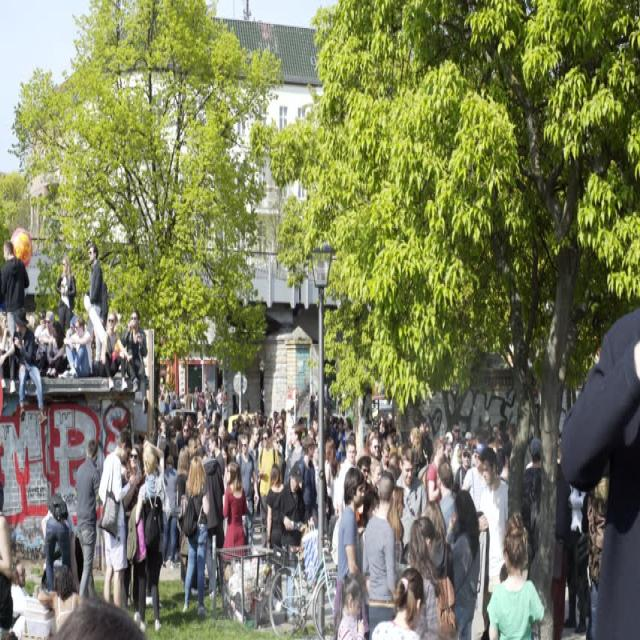body: (558, 301, 640, 639), (359, 416, 540, 489), (41, 533, 146, 639), (226, 388, 358, 467), (485, 505, 549, 639), (96, 428, 137, 613), (130, 437, 165, 632), (360, 469, 399, 640), (474, 446, 508, 640), (444, 488, 481, 640), (156, 388, 226, 465), (181, 453, 211, 618), (420, 500, 454, 640), (120, 444, 146, 627), (11, 304, 50, 425), (74, 436, 102, 601), (278, 464, 307, 616), (195, 448, 224, 599), (406, 516, 441, 640), (369, 565, 426, 639), (562, 482, 589, 634), (519, 436, 544, 584), (394, 445, 428, 551), (336, 465, 366, 583), (9, 554, 49, 640), (0, 239, 31, 349), (118, 306, 149, 414), (41, 499, 75, 596), (85, 241, 109, 375), (38, 567, 84, 633), (235, 433, 261, 547), (257, 427, 281, 549), (97, 308, 131, 393), (220, 460, 248, 561), (158, 452, 180, 568), (175, 444, 192, 588), (291, 435, 317, 524), (321, 436, 340, 557), (0, 477, 14, 639), (62, 313, 93, 380), (336, 572, 366, 640), (336, 436, 360, 519), (89, 265, 109, 364), (264, 463, 286, 549), (55, 253, 77, 336), (461, 441, 486, 512), (386, 484, 406, 572), (436, 460, 458, 536), (41, 319, 68, 377), (424, 437, 446, 504), (283, 424, 305, 487), (0, 313, 16, 380), (121, 433, 146, 475), (38, 310, 58, 354), (33, 310, 47, 346), (64, 317, 76, 344), (191, 384, 200, 417), (197, 389, 206, 419), (184, 386, 192, 418)
